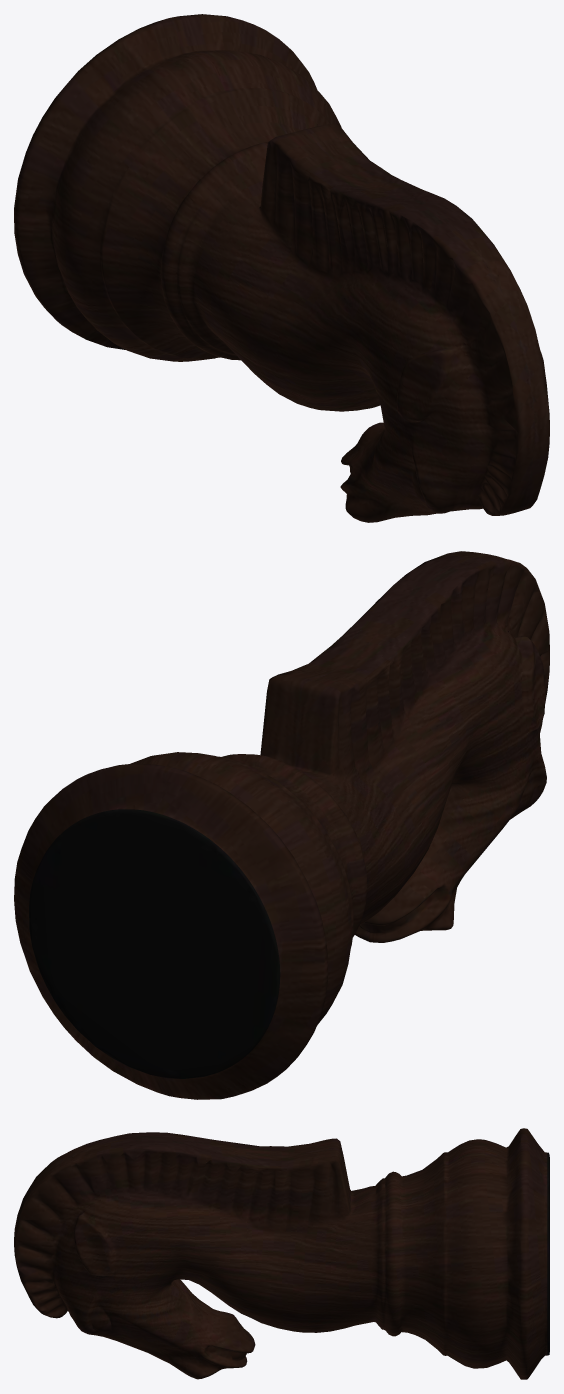
The model's file is knight4.obj.
3 renders of one model, top to bottom at view 1: azimuth 30°, elevation 25°; view 2: azimuth 150°, elevation 25°; view 3: azimuth 270°, elevation 25°, orthographic. The views are drawn at different scales.
Visible parts, largest first — view 1: mmGroup0; view 2: mmGroup0; view 3: mmGroup0.
Boxes of the visible parts, x1,y1,x2,y2 form: mmGroup0: (14, 14, 549, 522); mmGroup0: (14, 551, 549, 1099); mmGroup0: (14, 1128, 549, 1379).
Bounding box in the file's own units: 4.61 × 4.63 × 9.82.
